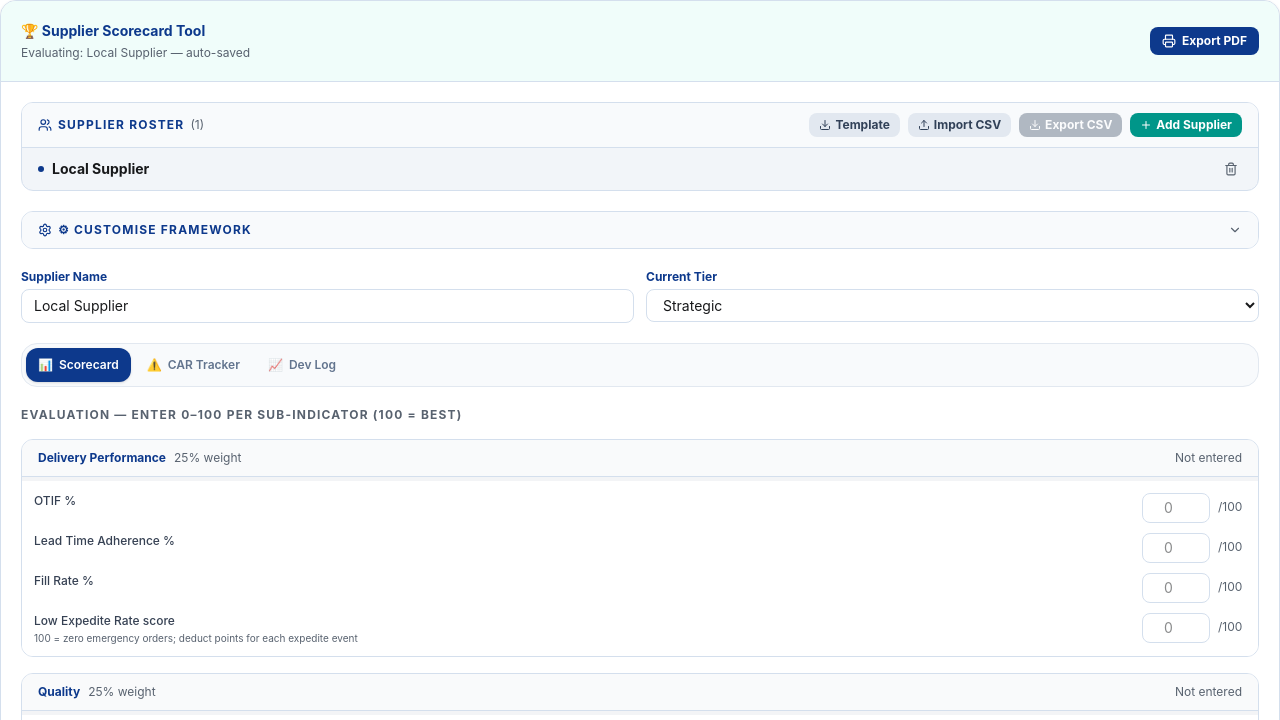
Scenario: sync status › shows "Saving…" immediately after an edit while the debounce is pending
This screenshot has width=1280, height=720.
Click the text "Local Supplier": click(101, 169) left=52, top=159, right=149, bottom=179
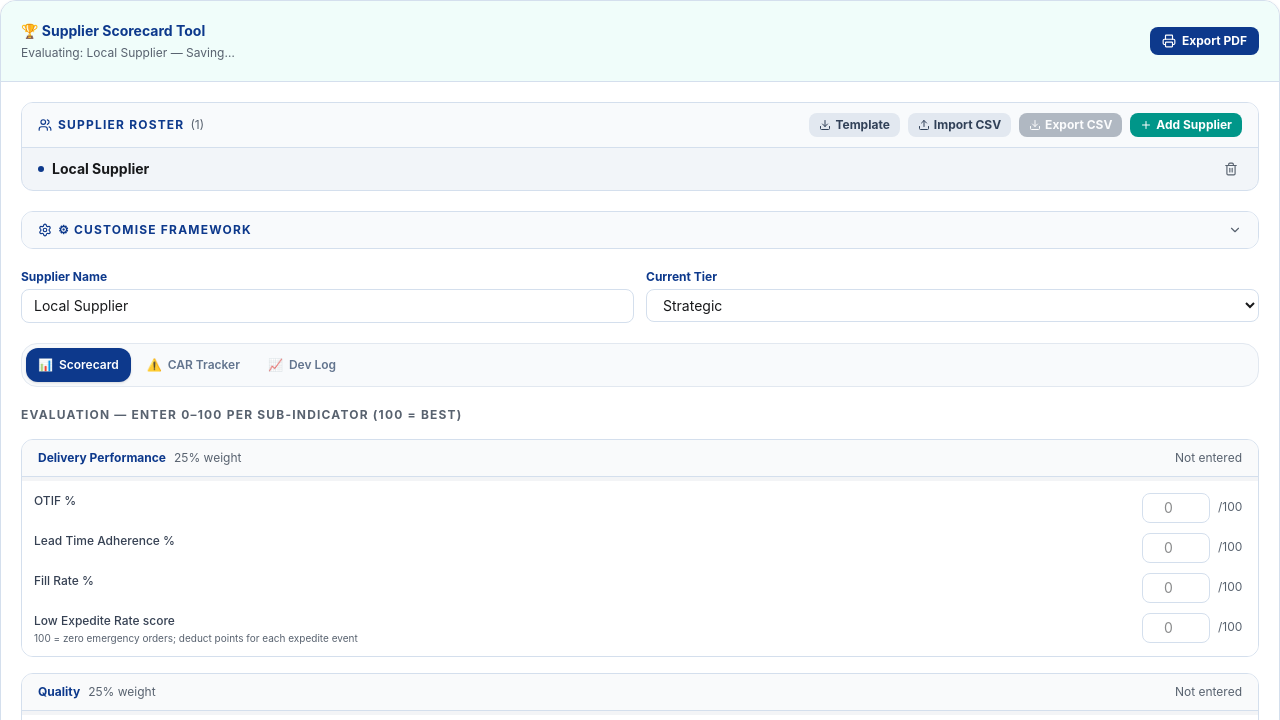
Result: the text "Evaluating: Local Supplier — Saving…" is shown at left=21, top=45, right=235, bottom=61
